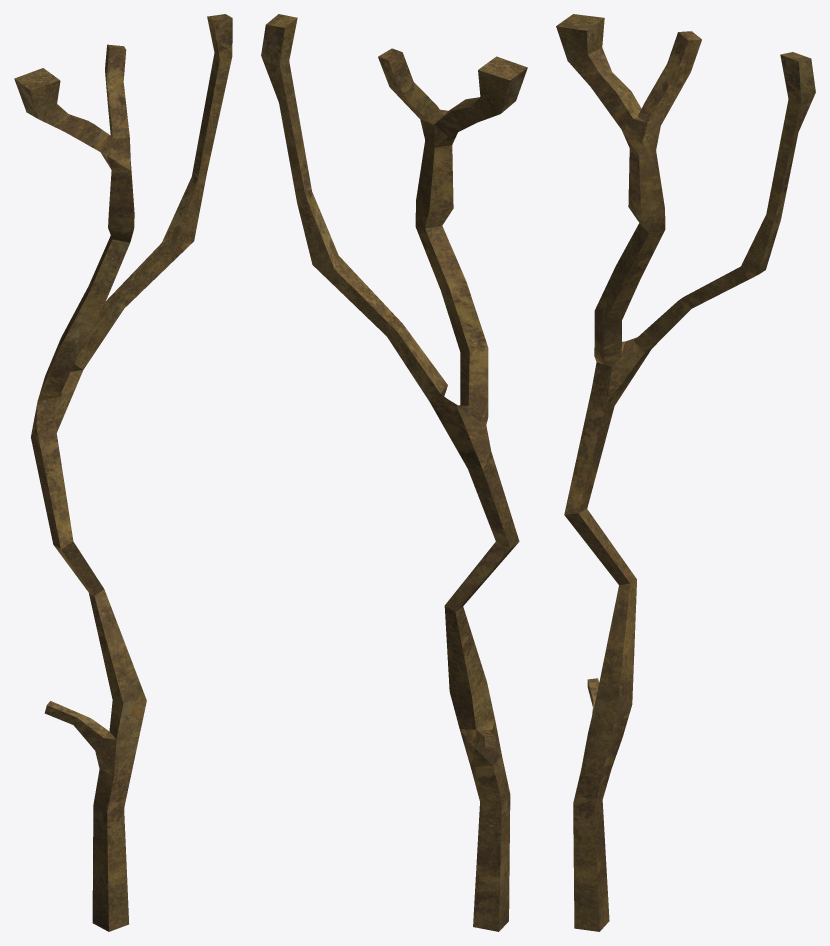
File: mg_12__pillar_0.fbx
3 views of the same model, side by side, from view 1: azimuth 30°, elevation 25°; view 2: azimuth 150°, elevation 25°; view 3: azimuth 330°, elevation 25° (orthographic). The views are drawn at different scales.
Visible parts, largest first — view 1: mg_12__pillar_0; view 2: mg_12__pillar_0; view 3: mg_12__pillar_0.
Boxes of the visible parts, bbox=[...] form: mg_12__pillar_0: bbox=[14, 14, 232, 931]; mg_12__pillar_0: bbox=[261, 14, 527, 931]; mg_12__pillar_0: bbox=[556, 14, 815, 931].
Bounding box in the file's own units: 68.18 × 243 × 30.
